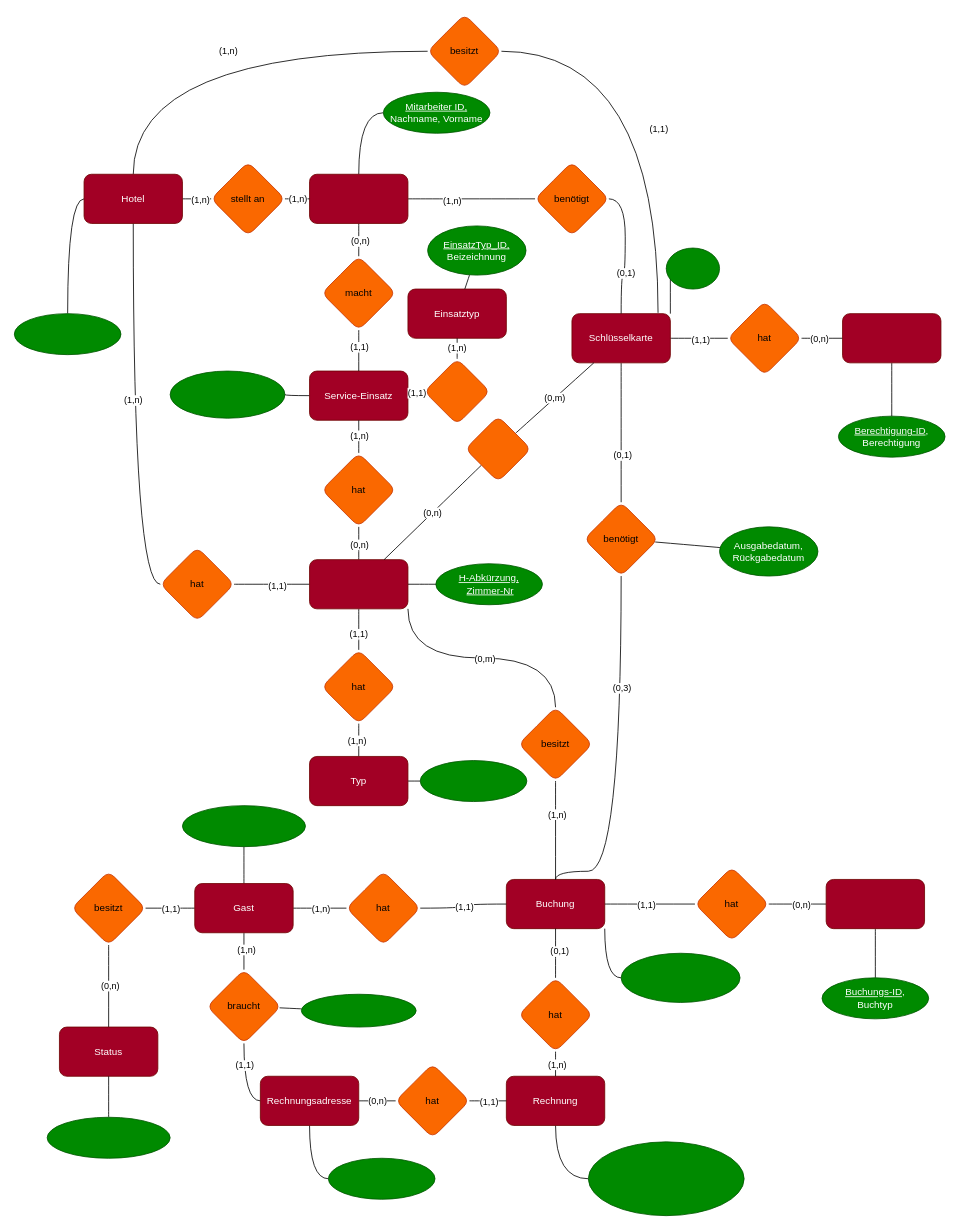
This 959x1230 diagram has some shape labels left out. The shapes that lost their labels are listed below. From the top down, each one's centre as x and y in pixels, then its label:
At pixel 358 198: "Servicekraft".
At pixel 692 268: "ID".
At pixel 67 334: "H-Abkürzung".
At pixel 891 338: "Berechtigung".
At pixel 227 394: "Einsatz ID , Datum, Uhrzeit, Kommentar, Dauer".
At pixel 457 391: "ZuO".
At pixel 498 448: "Zugang".
At pixel 358 584: "Zimmer".
At pixel 473 781: "Typ ID, Typ".
At pixel 243 826: "Kunden-ID , Geburtsjahr, Name".
At pixel 875 904: "Buchungsart".
At pixel 680 977: "Buchungsnummer , Start-Datum, End-Datum, Flag".
At pixel 358 1010: "IstRechnungsadresse".
At pixel 108 1137: "Status ID , Status Bezeichnung".
At pixel 381 1178: "R_Adresse_ID , Adresse".
At pixel 666 1178: "Rechnungs-Nummer, Rechnungsbetrag".
